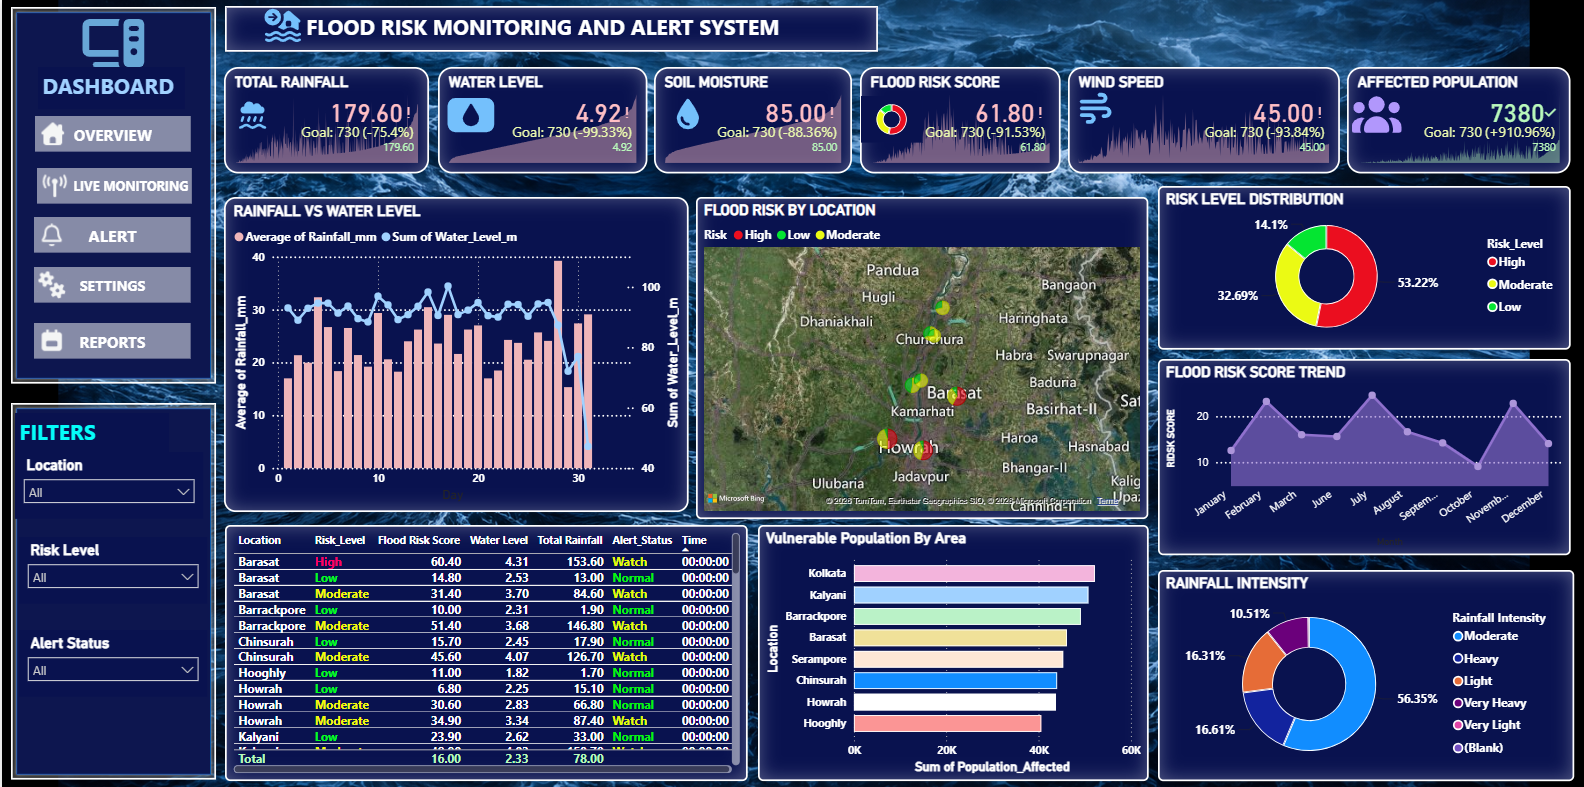

The page's visual inventory and layout, read from the dashboard file:
{"tool":"powerbi","page":{"name":"Page 1","canvas":[1800,900],"ordinal":0},"visuals":[{"type":"textbox","box":[253.6,7.1,742.2,52.3],"z":0},{"type":"stackedAreaChart","title":"FLOOD RISK SCORE TREND","fields":{"Category":["Smart_Flood_Risk_Dataset.Date.Variation.Date Hierarchy.Month"],"Y":["Smart_Flood_Risk_Dataset.Flood Risk Score"]},"box":[1313.8,407.5,468.8,222.5],"z":1000},{"type":"donutChart","title":"RISK LEVEL DISTRIBUTION","fields":{"Category":["Smart_Flood_Risk_Dataset.Risk_Level"],"Y":["Smart_Flood_Risk_Dataset.Flood Risk Score"]},"box":[1313.8,211.2,468.8,186.2],"z":2000},{"type":"donutChart","title":"RAINFALL INTENSITY","fields":{"Y":["Sum(Smart_Flood_Risk_Dataset.Rainfall_mm)"],"Category":["Smart_Flood_Risk_Dataset.Rainfall Intensity"]},"box":[1313.8,647.5,472.5,240],"z":3000},{"type":"lineClusteredColumnComboChart","title":"RAINFALL VS WATER LEVEL","fields":{"Y":["Avg(Smart_Flood_Risk_Dataset.Rainfall_mm)"],"Category":["Smart_Flood_Risk_Dataset.Date.Variation.Date Hierarchy.Day"],"Y2":["Sum(Smart_Flood_Risk_Dataset.Water_Level_m)"]},"box":[252.5,223.8,527.5,357.5],"z":4000},{"type":"tableEx","fields":{"Values":["Smart_Flood_Risk_Dataset.Location","Smart_Flood_Risk_Dataset.Risk_Level","Smart_Flood_Risk_Dataset.Flood Risk Score","Smart_Flood_Risk_Dataset.Water Level","Smart_Flood_Risk_Dataset.Total Rainfall","Smart_Flood_Risk_Dataset.Alert_Status","Smart_Flood_Risk_Dataset.Time"]},"box":[253.8,596.2,593.8,291.2],"z":5000},{"type":"barChart","title":"Vulnerable Population By Area","fields":{"Y":["Sum(Smart_Flood_Risk_Dataset.Population_Affected)"],"Category":["Smart_Flood_Risk_Dataset.Location"]},"box":[858.8,596.2,443.8,291.2],"z":6000},{"type":"map","title":"FLOOD RISK BY LOCATION","fields":{"Category":["Smart_Flood_Risk_Dataset.Location"],"Y":["Avg(Smart_Flood_Risk_Dataset.Latitude)"],"X":["Avg(Smart_Flood_Risk_Dataset.Longitude)"],"Series":["Smart_Flood_Risk_Dataset.Risk_Level"],"Size":["Smart_Flood_Risk_Dataset.Flood Risk Score"]},"box":[788.8,223.8,513.8,366.2],"z":7000},{"type":"kpi","title":"TOTAL RAINFALL","fields":{"Indicator":["Sum(Smart_Flood_Risk_Dataset.Rainfall_mm)"],"TrendLine":["Smart_Flood_Risk_Dataset.Rainfall_mm"],"Goal":["CountNonNull(Smart_Flood_Risk_Dataset.Date.Variation.Date Hierarchy.Day)"]},"box":[252.5,76.2,232.5,121.2],"z":8000},{"type":"kpi","title":"WATER LEVEL ","fields":{"Indicator":["Avg(Smart_Flood_Risk_Dataset.Water_Level_m)"],"TrendLine":["Smart_Flood_Risk_Dataset.Water_Level_m"],"Goal":["CountNonNull(Smart_Flood_Risk_Dataset.Date.Variation.Date Hierarchy.Day)"]},"box":[495,76.2,237.5,121.2],"z":9000},{"type":"kpi","title":"SOIL MOISTURE","fields":{"Indicator":["Avg(Smart_Flood_Risk_Dataset.Soil_Moisture_pct)"],"TrendLine":["Smart_Flood_Risk_Dataset.Soil_Moisture_pct"],"Goal":["CountNonNull(Smart_Flood_Risk_Dataset.Date.Variation.Date Hierarchy.Day)"]},"box":[741.2,76.2,225,121.2],"z":10000},{"type":"kpi","title":"FLOOD RISK SCORE","fields":{"Indicator":["Sum(Smart_Flood_Risk_Dataset.Flood_Risk_Score)"],"Goal":["CountNonNull(Smart_Flood_Risk_Dataset.Date.Variation.Date Hierarchy.Day)"],"TrendLine":["Smart_Flood_Risk_Dataset.Flood_Risk_Score"]},"box":[975,76.2,227.5,121.2],"z":11000},{"type":"kpi","title":"WIND SPEED","fields":{"Indicator":["Sum(Smart_Flood_Risk_Dataset.Wind_Speed_kmh)"],"TrendLine":["Smart_Flood_Risk_Dataset.Wind_Speed_kmh"],"Goal":["CountNonNull(Smart_Flood_Risk_Dataset.Date.Variation.Date Hierarchy.Day)"]},"box":[1211.2,76.2,308.8,121.2],"z":12000},{"type":"kpi","title":"AFFECTED POPULATION","fields":{"Indicator":["Sum(Smart_Flood_Risk_Dataset.Population_Affected)"],"TrendLine":["Smart_Flood_Risk_Dataset.Population_Affected"],"Goal":["CountNonNull(Smart_Flood_Risk_Dataset.Date.Variation.Date Hierarchy.Day)"]},"box":[1528.8,76.2,253.8,121.2],"z":13000},{"type":"shape","box":[9.9,7.4,233.3,428.4],"z":14000},{"type":"shape","box":[9.9,458,233.3,428.4],"z":15000},{"type":"image","box":[87.7,0,77.8,97.5],"z":16000},{"type":"textbox","box":[40.7,76.5,166.7,48.1],"z":17000},{"type":"textbox","box":[15.2,469.6,174.7,49.4],"z":18000},{"type":"slicer","fields":{"Values":["Smart_Flood_Risk_Dataset.Location"]},"box":[15.2,513.9,213.9,75.9],"z":19000},{"type":"slicer","fields":{"Values":["Smart_Flood_Risk_Dataset.Risk_Level"]},"box":[19,610.1,213.9,75.9],"z":20000},{"type":"slicer","fields":{"Values":["Smart_Flood_Risk_Dataset.Alert_Status"]},"box":[19,716.5,213.9,75.9],"z":21000},{"type":"image","box":[284.8,7.6,68.4,41.8],"z":22000},{"type":"image","box":[753.2,108.9,51.9,41.8],"z":23000},{"type":"image","box":[503.8,84.8,59.5,93.7],"z":24000},{"type":"image","box":[251.9,111.4,64.6,39.2],"z":25000},{"type":"image","box":[1202.5,101.3,81,44.3],"z":26000},{"type":"donutChart","title":"RISK LEVEL DISTRIBUTION","fields":{"Category":["Smart_Flood_Risk_Dataset.Risk_Level"],"Y":["Smart_Flood_Risk_Dataset.Flood Risk Score"]},"box":[975.9,108.9,69.6,53.2],"z":27000},{"type":"image","box":[1529.1,102.5,64.6,57],"z":28000},{"type":"actionButton","box":[38,131.6,177.2,40.5],"z":29000},{"type":"actionButton","box":[39.2,191.1,175.9,40.5],"z":30000},{"type":"actionButton","box":[36.7,246.8,178.5,40.5],"z":31000},{"type":"actionButton","box":[36.7,303.8,178.5,40.5],"z":32000},{"type":"actionButton","box":[36.7,367.1,178.5,40.5],"z":33000}]}

Visuals, with their boxes in screenshot pixels (x1, y1, x2, y2), scaled from the page's 1800x900 canvas onto the 1584x787 screenshot:
textbox: x1=223 y1=6 x2=876 y2=52
"FLOOD RISK SCORE TREND" stackedAreaChart: x1=1156 y1=356 x2=1569 y2=551
"RISK LEVEL DISTRIBUTION" donutChart: x1=1156 y1=185 x2=1569 y2=348
"RAINFALL INTENSITY" donutChart: x1=1156 y1=566 x2=1572 y2=776
"RAINFALL VS WATER LEVEL" lineClusteredColumnComboChart: x1=222 y1=196 x2=686 y2=508
tableEx - Smart_Flood_Risk_Dataset.Location x Smart_Flood_Risk_Dataset.Risk_Level: x1=223 y1=521 x2=746 y2=776
"Vulnerable Population By Area" barChart: x1=756 y1=521 x2=1146 y2=776
"FLOOD RISK BY LOCATION" map: x1=694 y1=196 x2=1146 y2=516
"TOTAL RAINFALL" kpi: x1=222 y1=67 x2=427 y2=173
"WATER LEVEL " kpi: x1=436 y1=67 x2=645 y2=173
"SOIL MOISTURE" kpi: x1=652 y1=67 x2=850 y2=173
"FLOOD RISK SCORE" kpi: x1=858 y1=67 x2=1058 y2=173
"WIND SPEED" kpi: x1=1066 y1=67 x2=1338 y2=173
"AFFECTED POPULATION" kpi: x1=1345 y1=67 x2=1569 y2=173
shape: x1=9 y1=6 x2=214 y2=381
shape: x1=9 y1=400 x2=214 y2=775
image: x1=77 y1=0 x2=146 y2=85
textbox: x1=36 y1=67 x2=183 y2=109
textbox: x1=13 y1=411 x2=167 y2=454
slicer - Smart_Flood_Risk_Dataset.Location: x1=13 y1=449 x2=202 y2=516
slicer - Smart_Flood_Risk_Dataset.Risk_Level: x1=17 y1=533 x2=205 y2=600
slicer - Smart_Flood_Risk_Dataset.Alert_Status: x1=17 y1=627 x2=205 y2=693
image: x1=251 y1=7 x2=311 y2=43
image: x1=663 y1=95 x2=708 y2=132
image: x1=443 y1=74 x2=496 y2=156
image: x1=222 y1=97 x2=279 y2=132
image: x1=1058 y1=89 x2=1129 y2=127
"RISK LEVEL DISTRIBUTION" donutChart: x1=859 y1=95 x2=920 y2=142
image: x1=1346 y1=90 x2=1402 y2=139
actionButton: x1=33 y1=115 x2=189 y2=150
actionButton: x1=34 y1=167 x2=189 y2=203
actionButton: x1=32 y1=216 x2=189 y2=251
actionButton: x1=32 y1=266 x2=189 y2=301
actionButton: x1=32 y1=321 x2=189 y2=356
